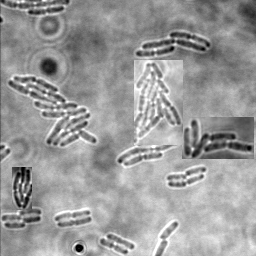Dividing: (167, 175, 204, 189), (99, 238, 128, 255), (54, 209, 90, 222), (56, 217, 92, 228), (27, 7, 64, 17)
Microcolony: (7, 76, 98, 147), (134, 60, 183, 145), (182, 117, 254, 159), (117, 137, 180, 168), (135, 32, 211, 57), (1, 208, 42, 229), (12, 167, 32, 210)
Rod: (106, 233, 135, 251), (157, 222, 178, 240), (184, 167, 206, 177), (166, 174, 187, 183)
